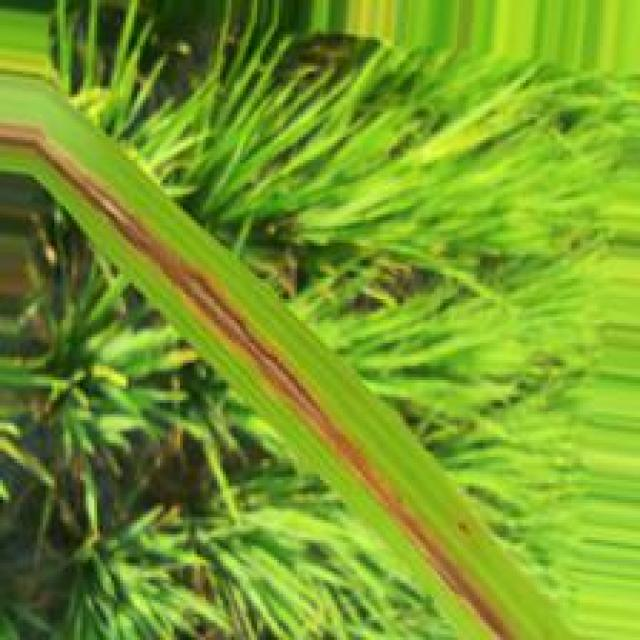Leaf_Blast: (34, 134, 520, 640)
